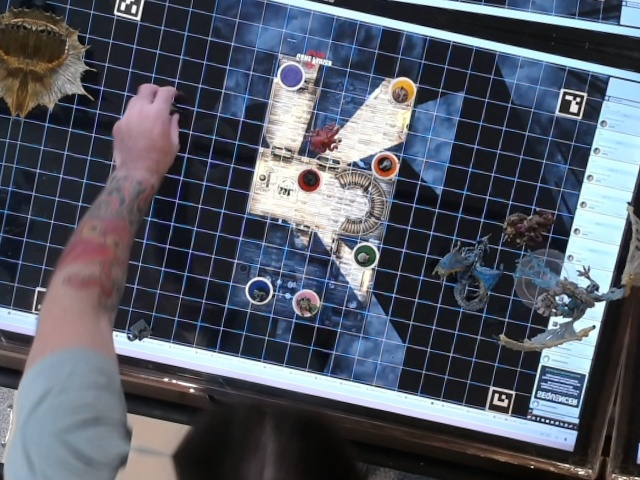blue: (242, 270, 279, 308)
green: (351, 239, 385, 269)
orange: (370, 147, 403, 178)
pink: (289, 281, 327, 318)
red: (293, 160, 327, 195)
violet: (274, 57, 309, 96)
yellow: (383, 71, 422, 107)
